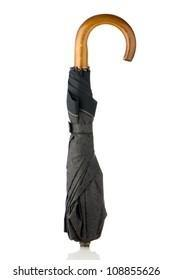Umbrella: (58, 12, 138, 250)
